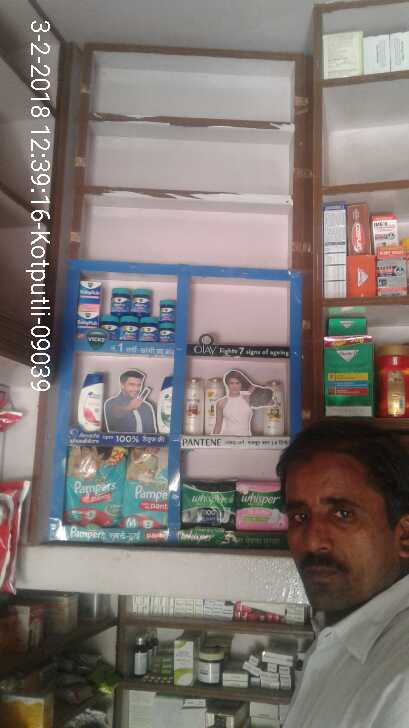vicks: (77, 278, 180, 342)
